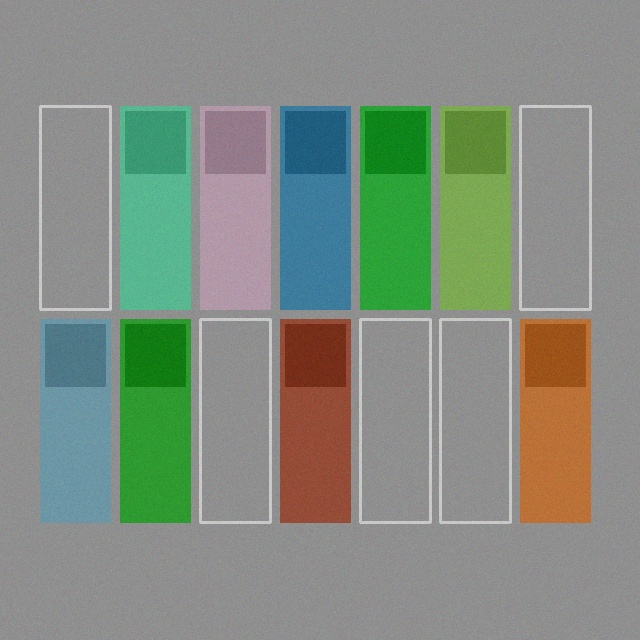space-empty: (40, 106, 110, 309), (520, 106, 590, 309), (200, 319, 270, 522), (360, 319, 430, 522), (440, 319, 510, 522)
space-occupied: (120, 106, 190, 309), (200, 106, 270, 309), (280, 106, 350, 309), (360, 106, 430, 309), (440, 106, 510, 309), (40, 319, 110, 522), (120, 319, 190, 522), (280, 319, 350, 522), (520, 319, 590, 522)
